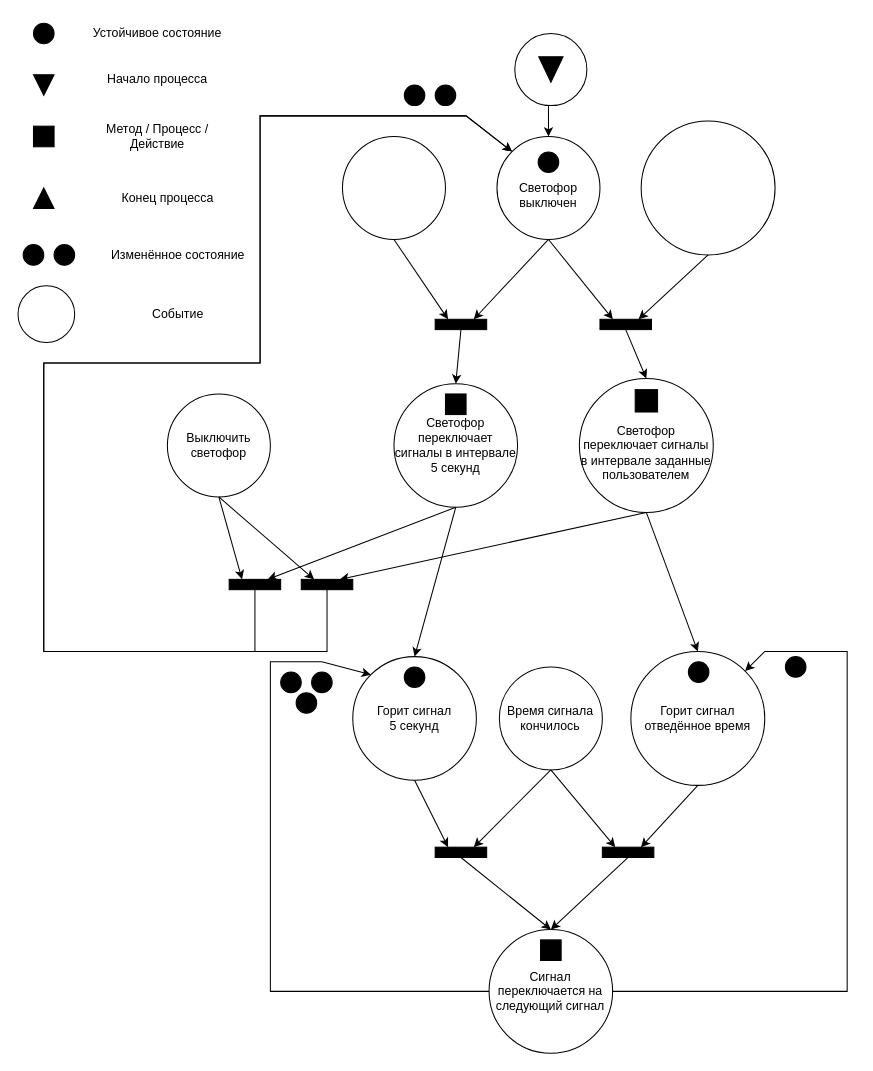
The diagram is 873 pixels wide and 1071 high, and some of its shapes have lost their labels. Each missing label, with the centre of its shape:
Включил светофор: (x=393, y=187)
Открыл настройки и ввёл время для зелёного или красного света: (x=707, y=187)
